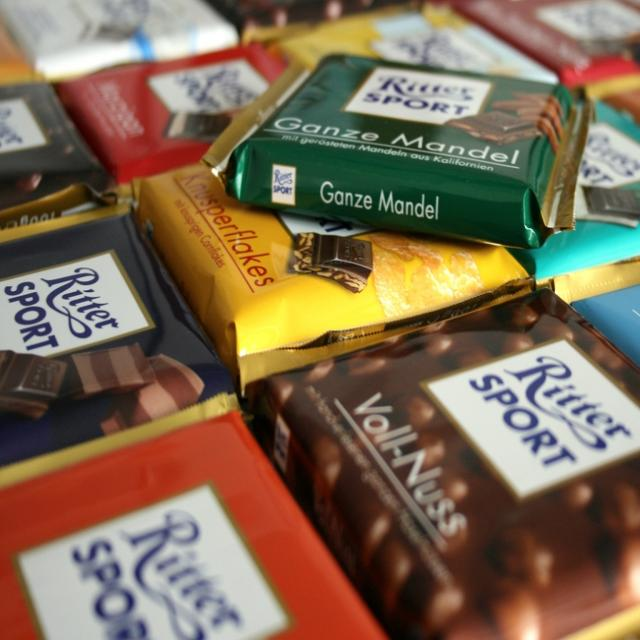rittersport: (16, 486, 289, 640), (427, 339, 640, 506), (2, 250, 152, 360), (150, 53, 274, 142), (344, 65, 494, 137), (571, 112, 640, 224), (271, 164, 299, 208)
